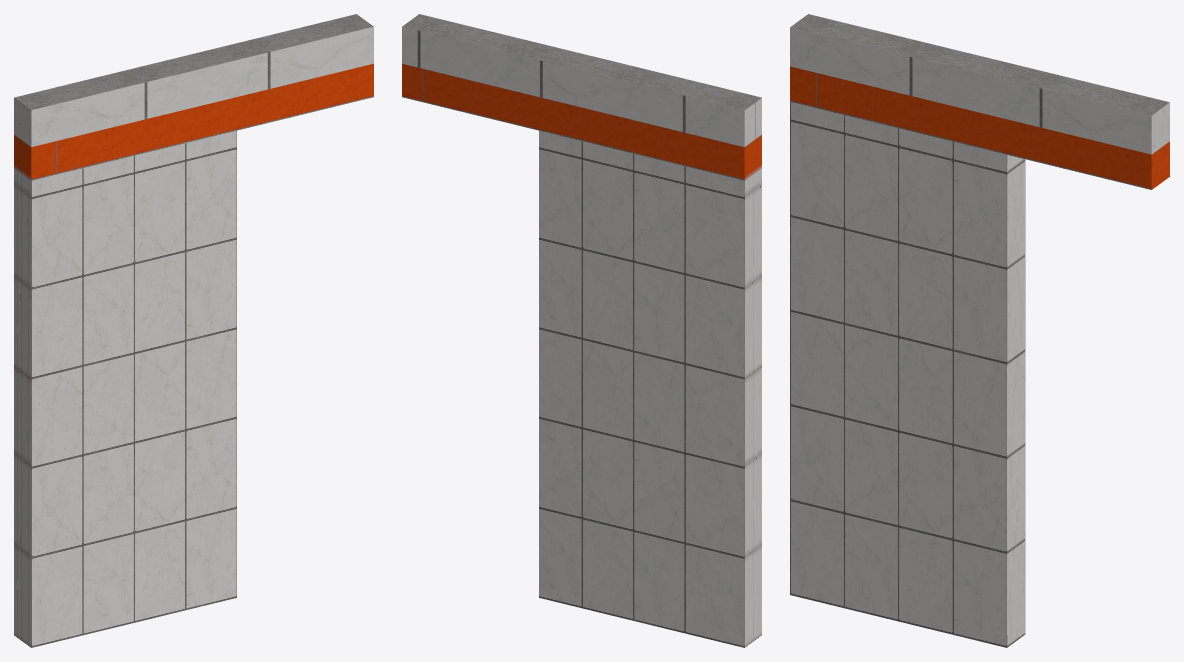
File: WallDoorHalf.fbx
3 views of the same model, side by side, from view 1: azimuth 30°, elevation 25°; view 2: azimuth 150°, elevation 25°; view 3: azimuth 330°, elevation 25° (orthographic). The views are drawn at different scales.
Parts seen in each view (by area): view 1: WallDoorHalf; view 2: WallDoorHalf; view 3: WallDoorHalf.
Part boxes in pixels (x1,y1,x2,y2): WallDoorHalf: (14,14,373,647); WallDoorHalf: (402,14,761,647); WallDoorHalf: (790,14,1169,647).
Bounding box in the file's own units: 2 × 3 × 0.175.
